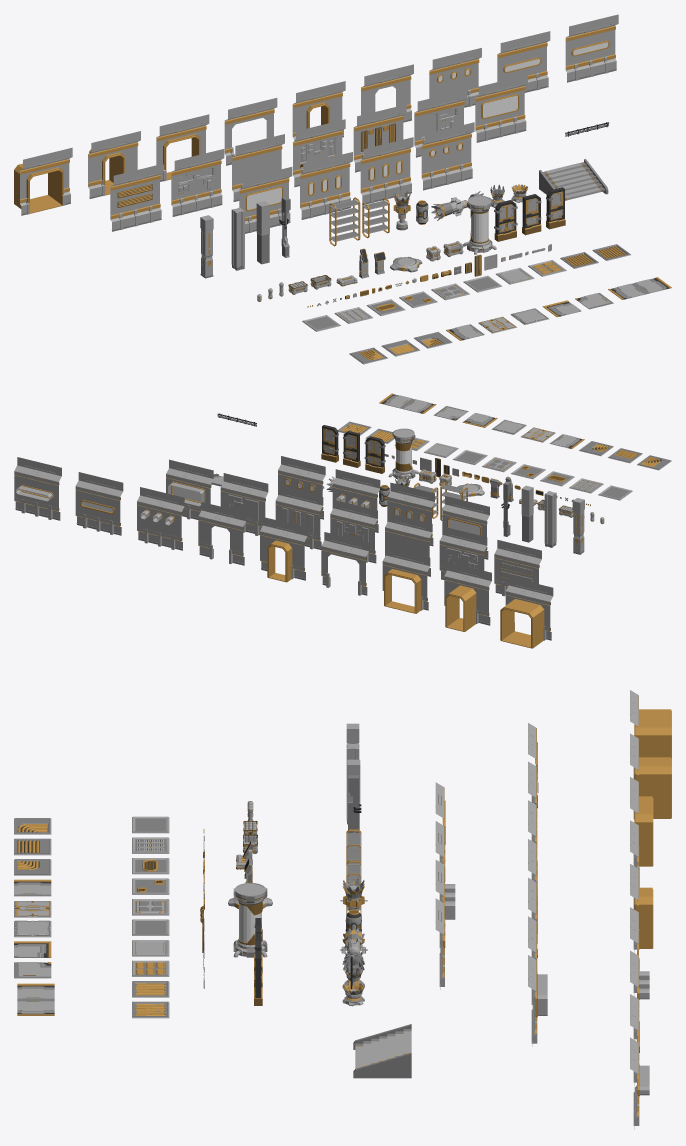
The model's file is ScifiKit.fbx.
The picture shows the model from 3 angles, top to bottom: view 1: azimuth 30°, elevation 25°; view 2: azimuth 150°, elevation 25°; view 3: azimuth 270°, elevation 25°; orthographic projection. The views are drawn at different scales.
Parts seen in each view (by area): view 1: SmallWindows_Wall_SideB, LongWindow_Wall_SideA, Wall_4, Window_Wall_SideA, Wall_5, ThreeWindows_Wall_SideA, DoorDoubleLong_Wall_SideA, ThreeWindows_Wall_SideB, LongWindow_Wall_SideB, DoorSingleLong_Wall_SideA, Window_Wall_SideB, SmallWindows_Wall_SideA (+20 smaller); view 2: DoorDoubleLong_Wall_SideA, DoorSingleLong_Wall_SideA, LongWindow_Wall_SideB, LongWindow_Wall_SideA, SmallWindows_Wall_SideA, DoorSingle_Wall_SideA, DoorDouble_Wall_SideA, Wall_1, DoorSingle_Wall_SideB, Window_Wall_SideA, Wall_2, Wall_5 (+17 smaller); view 3: Staircase, DoorSingleLong_Wall_SideA, DoorDoubleLong_Wall_SideA, Props_Pod, DoorDouble_Wall_SideA, DoorSingle_Wall_SideA, FloorTile_Double, Window_Wall_SideA, LongWindow_Wall_SideA, ThreeWindows_Wall_SideA, Props_Laser, SmallWindows_Wall_SideA (+5 smaller).
Boxes of the visible parts, bbox=[...] form: SmallWindows_Wall_SideB: bbox=[421, 122, 474, 190]; LongWindow_Wall_SideA: bbox=[565, 14, 618, 82]; Wall_4: bbox=[171, 149, 224, 216]; Window_Wall_SideA: bbox=[475, 74, 527, 142]; Wall_5: bbox=[110, 164, 163, 231]; ThreeWindows_Wall_SideA: bbox=[360, 137, 413, 204]; DoorDoubleLong_Wall_SideA: bbox=[14, 147, 72, 215]; ThreeWindows_Wall_SideB: bbox=[300, 152, 352, 219]; LongWindow_Wall_SideB: bbox=[497, 31, 550, 92]; DoorSingleLong_Wall_SideA: bbox=[88, 131, 140, 198]; Window_Wall_SideB: bbox=[239, 167, 292, 233]; SmallWindows_Wall_SideA: bbox=[429, 48, 481, 107]; DoorDoubleLong_Wall_SideA: bbox=[500, 577, 553, 648]; DoorSingleLong_Wall_SideA: bbox=[444, 562, 491, 631]; LongWindow_Wall_SideB: bbox=[75, 472, 123, 535]; LongWindow_Wall_SideA: bbox=[14, 457, 61, 520]; SmallWindows_Wall_SideA: bbox=[137, 487, 184, 550]; DoorSingle_Wall_SideA: bbox=[260, 517, 307, 582]; DoorDouble_Wall_SideA: bbox=[382, 547, 430, 613]; Wall_1: bbox=[220, 473, 268, 535]; DoorSingle_Wall_SideB: bbox=[198, 502, 245, 565]; Window_Wall_SideA: bbox=[166, 459, 213, 519]; Wall_2: bbox=[275, 486, 323, 549]; Wall_5: bbox=[494, 540, 541, 596]; Staircase: bbox=[353, 1024, 411, 1078]; DoorSingleLong_Wall_SideA: bbox=[630, 733, 671, 818]; DoorDoubleLong_Wall_SideA: bbox=[630, 690, 671, 778]; Props_Pod: bbox=[233, 882, 267, 957]; DoorDouble_Wall_SideA: bbox=[630, 777, 653, 866]; DoorSingle_Wall_SideA: bbox=[630, 864, 653, 952]; FloorTile_Double: bbox=[17, 983, 54, 1015]; Window_Wall_SideA: bbox=[528, 955, 547, 1046]; LongWindow_Wall_SideA: bbox=[630, 1037, 649, 1129]; ThreeWindows_Wall_SideA: bbox=[435, 860, 455, 948]; Props_Laser: bbox=[340, 928, 367, 970]; SmallWindows_Wall_SideA: bbox=[630, 950, 649, 1039].
Size of the model in its own units: 4800 by 570 by 3521.
